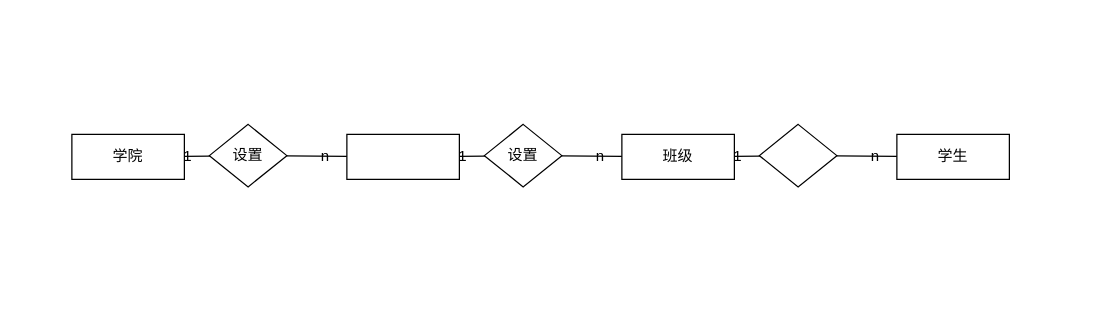
Image size: 1118x318. Some labels were removed from this diagram. The centre of each missing label's shape, as x and y in pixels:
"专业" goes at (x=402, y=156).
"包含" goes at (x=797, y=155).
